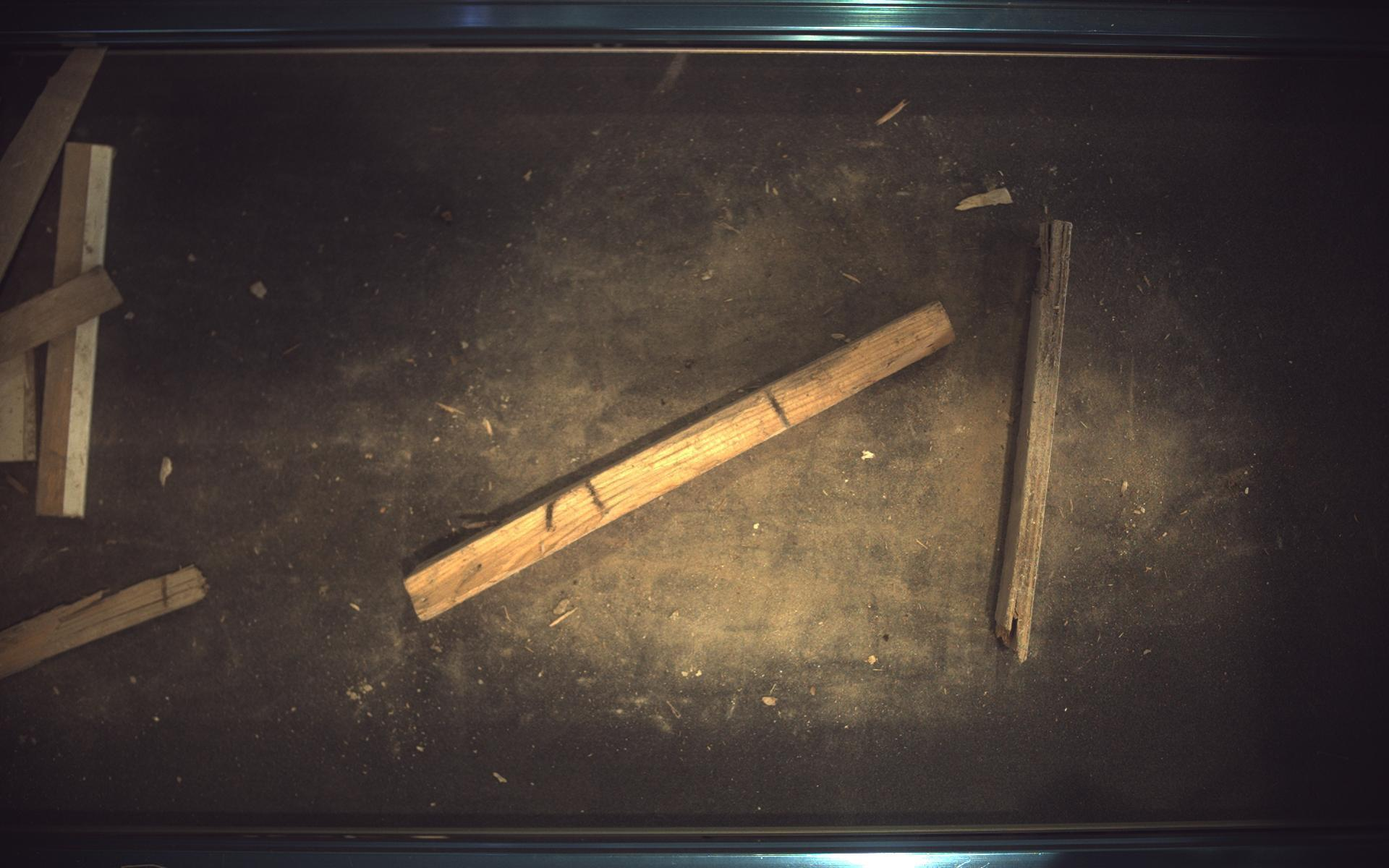wood: (404, 302, 956, 621), (997, 219, 1075, 663), (1, 47, 104, 278), (1, 566, 207, 679), (35, 316, 97, 518), (1, 265, 121, 362), (52, 141, 112, 286), (1, 350, 35, 461)
